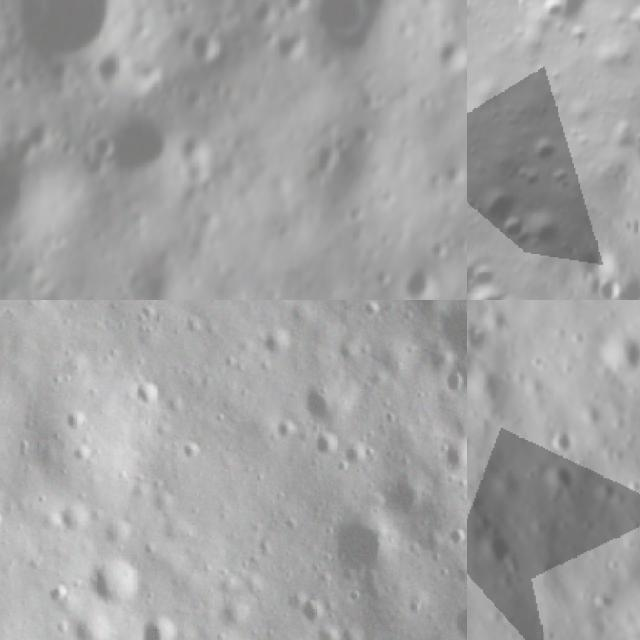crater: (10, 0, 147, 76), (0, 115, 80, 241), (111, 100, 182, 174), (325, 510, 399, 581), (580, 325, 640, 402), (305, 0, 385, 49), (472, 180, 533, 242), (523, 0, 606, 44), (82, 555, 147, 609), (379, 468, 436, 519), (299, 380, 350, 426), (402, 257, 451, 300), (435, 300, 467, 361), (340, 438, 377, 480), (612, 0, 640, 54), (258, 326, 296, 362), (140, 610, 185, 640), (126, 376, 164, 411), (467, 60, 484, 137), (297, 588, 329, 625), (445, 588, 467, 640), (438, 441, 467, 479), (385, 300, 463, 314), (310, 427, 342, 460), (467, 319, 490, 362), (311, 618, 349, 640)
